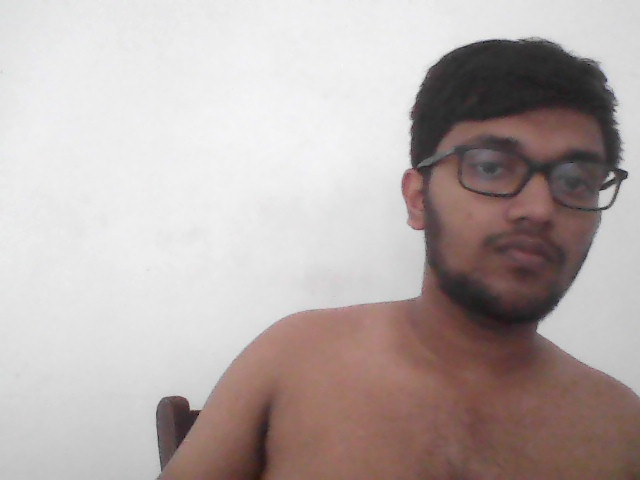upper level: (404, 35, 627, 331)
